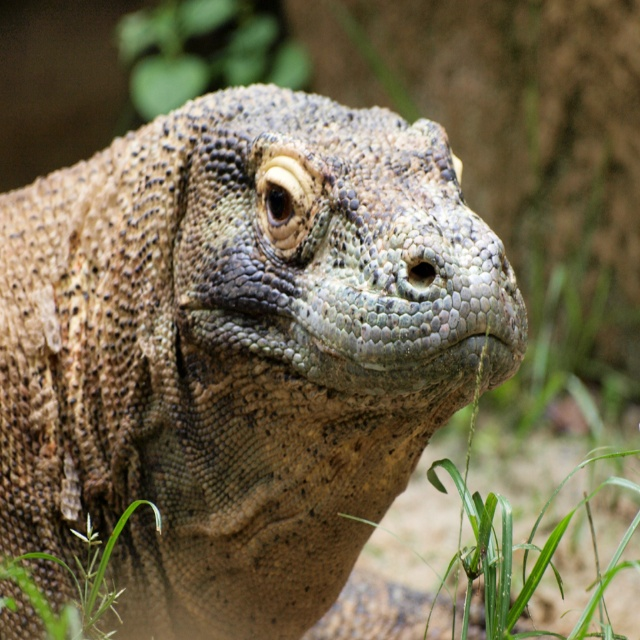Lizard: (0, 82, 528, 640)
